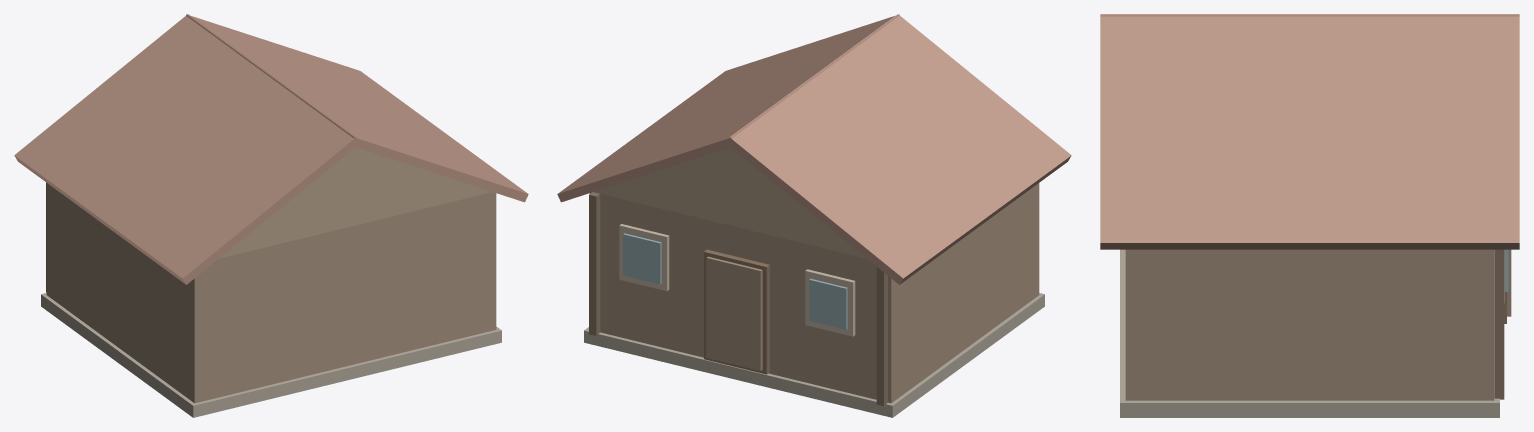
The picture shows the model from 3 angles, left to right: view 1: azimuth 30°, elevation 25°; view 2: azimuth 150°, elevation 25°; view 3: azimuth 270°, elevation 25°; orthographic projection. The views are drawn at different scales.
Parts seen in each view (by area): view 1: StaticGeometry; view 2: StaticGeometry; view 3: StaticGeometry.
Part boxes in pixels (bbox=[...]): StaticGeometry: bbox=[14, 14, 528, 417]; StaticGeometry: bbox=[557, 14, 1071, 417]; StaticGeometry: bbox=[1100, 14, 1519, 417].
Size of the model in its own units: 6.88 by 4.73 by 5.8.
